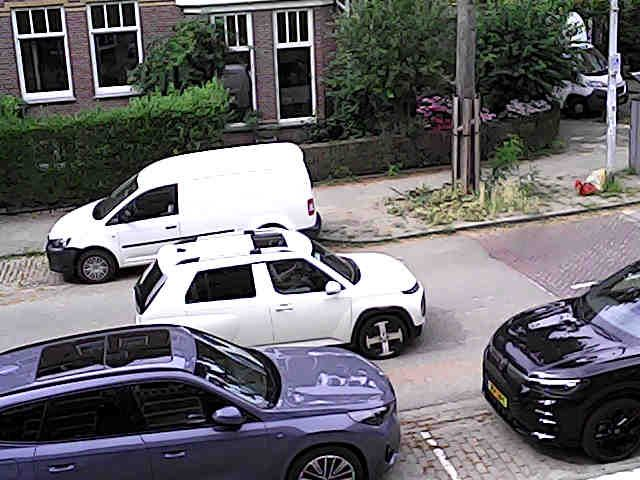suv: (0, 325, 399, 479), (134, 229, 425, 358), (483, 262, 639, 461)
whitevan: (45, 143, 320, 282)
